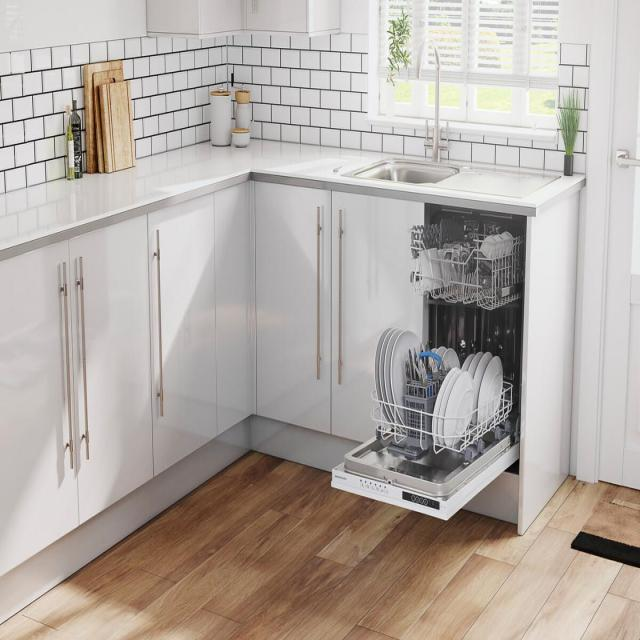dishwasher: (331, 188, 527, 524)
